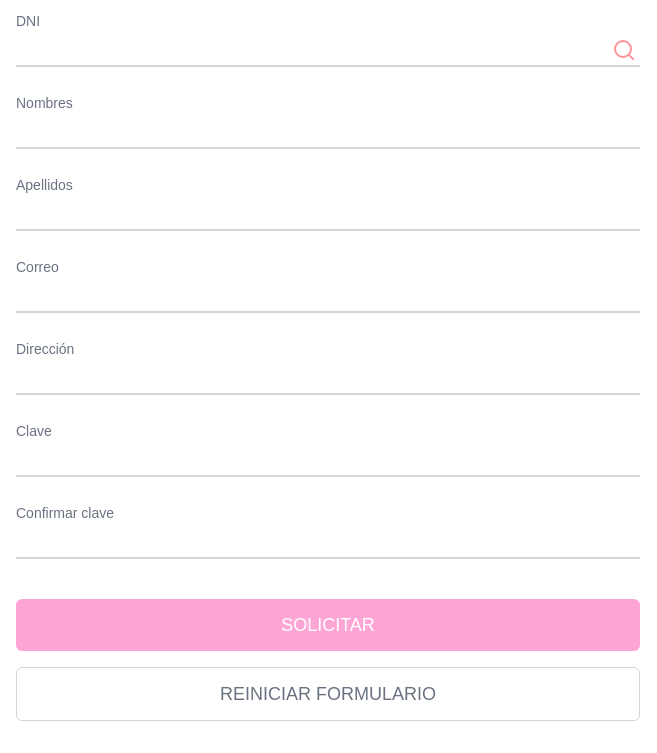
Home Component › should validate email format
This screenshot has width=657, height=753.
# First search DNI
In the field below "DNI": {"x": 328, "y": 50} [16,33,640,67], type "12345678"
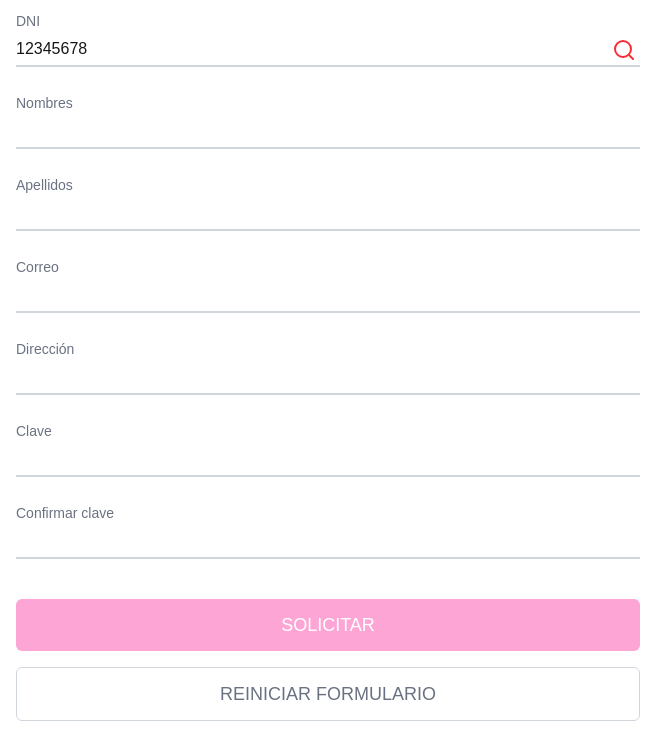
Click the 1st button: {"x": 624, "y": 50} [608,34,640,66]
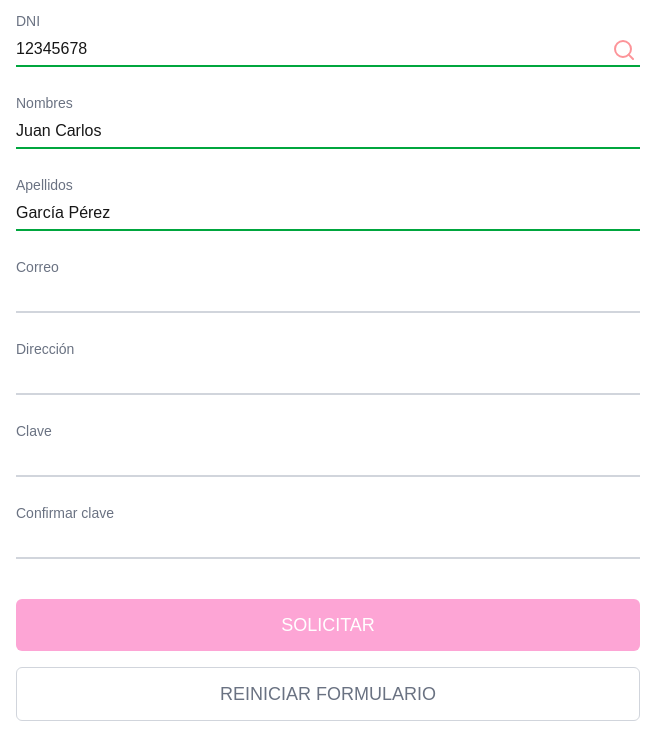
Check: the field showing "Juan Carlos" below "Nombres" is shown, box [16,115,640,149]
In the field below "Correo": {"x": 328, "y": 296} [16,279,640,313], type "invalid-email"
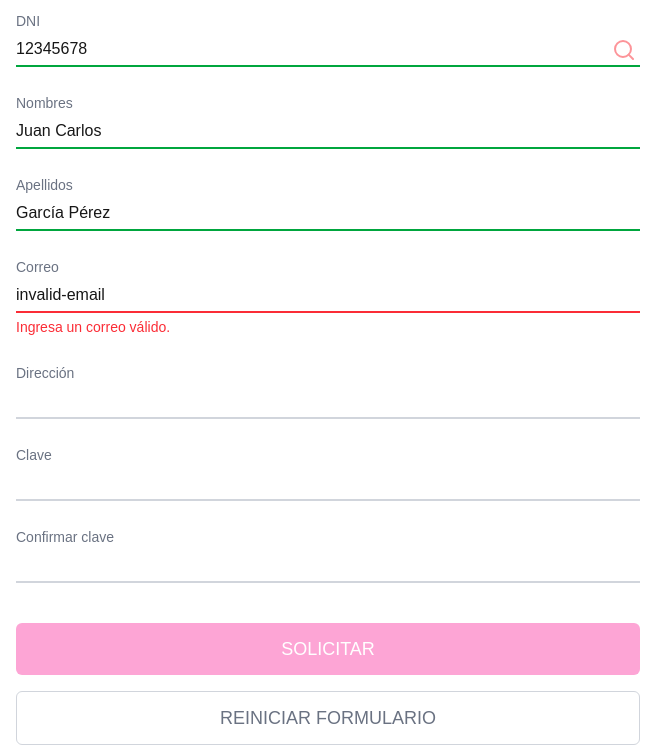
Check: the text "Ingresa un correo válido." is shown, box [16,319,170,335]
